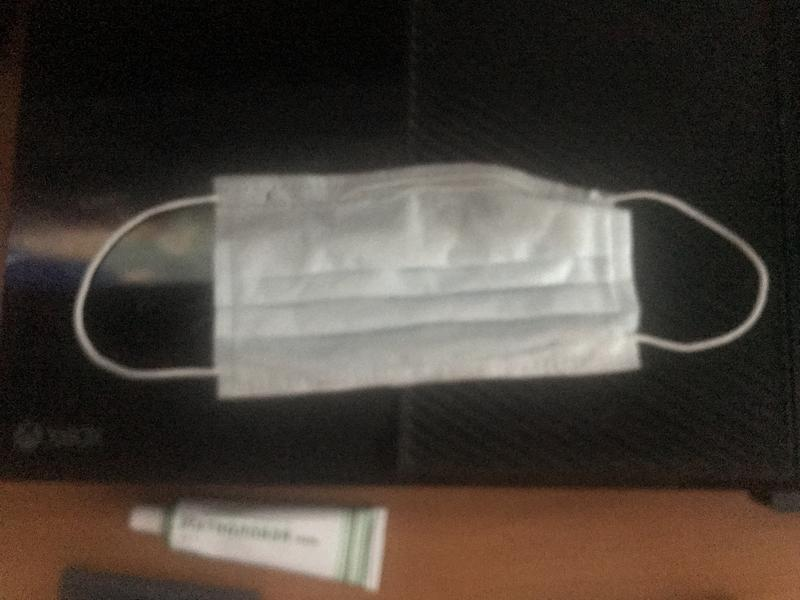medical_mask: (70, 163, 772, 400)
